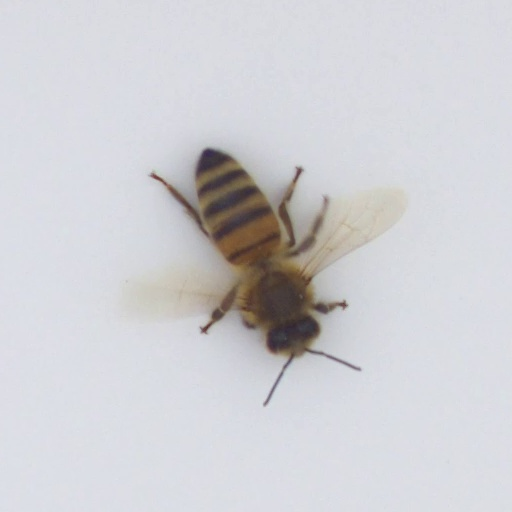Bee: (191, 148, 321, 359)
Thorax: (238, 267, 309, 325)
